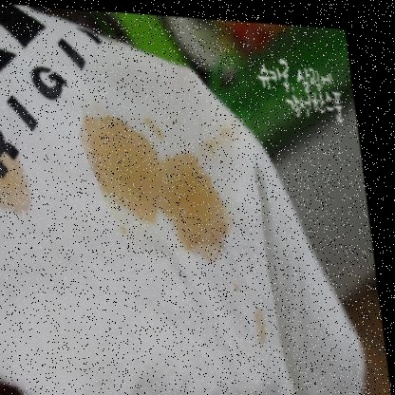coffee: (161, 157, 220, 251), (102, 137, 156, 207)
